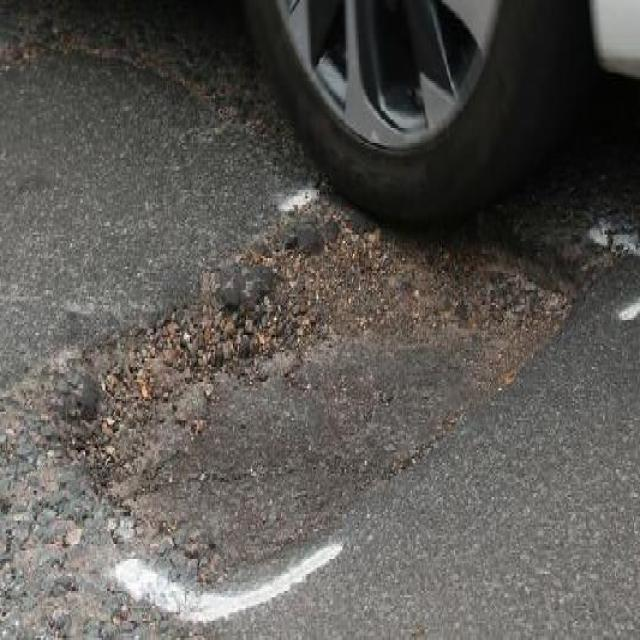pothole: (80, 196, 582, 521)
